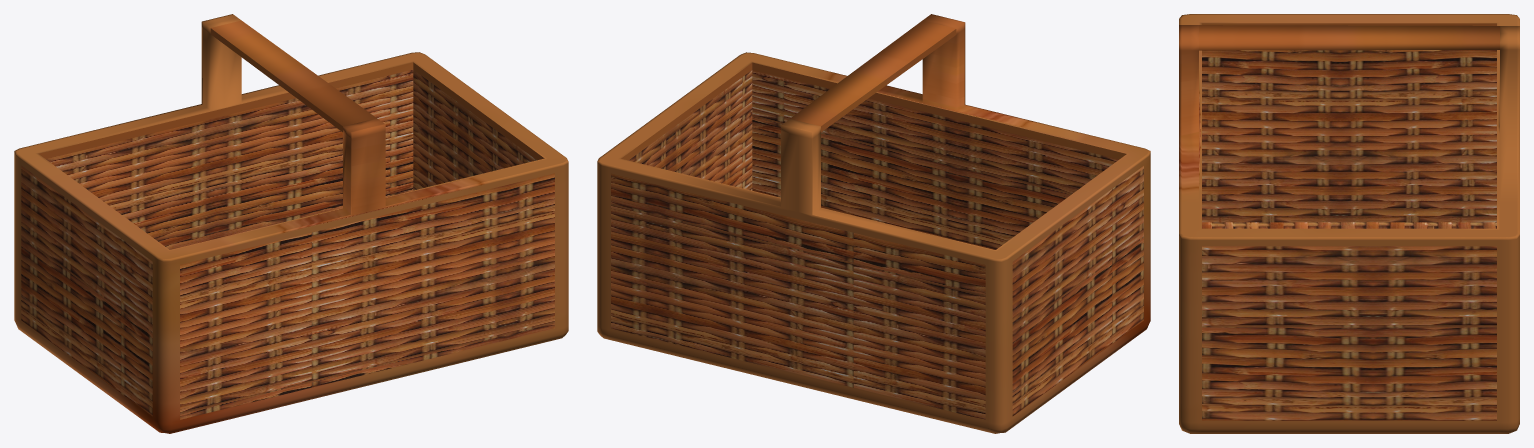
Rendered from Picnic basket.fbx.
The picture shows the model from 3 angles, left to right: view 1: azimuth 30°, elevation 25°; view 2: azimuth 150°, elevation 25°; view 3: azimuth 270°, elevation 25°; orthographic projection. The views are drawn at different scales.
Parts seen in each view (by area): view 1: Network, Picnic basket; view 2: Network, Picnic basket; view 3: Network, Picnic basket.
Part boxes in pixels (bbox=[...]): Network: bbox=[21, 70, 554, 419]; Picnic basket: bbox=[14, 14, 568, 433]; Network: bbox=[611, 70, 1143, 419]; Picnic basket: bbox=[597, 14, 1150, 433]; Network: bbox=[1202, 50, 1496, 420]; Picnic basket: bbox=[1179, 14, 1519, 433].
Bounding box in the file's own units: 50.11 × 30.4 × 32.19.
2 materials, 2 textured.
